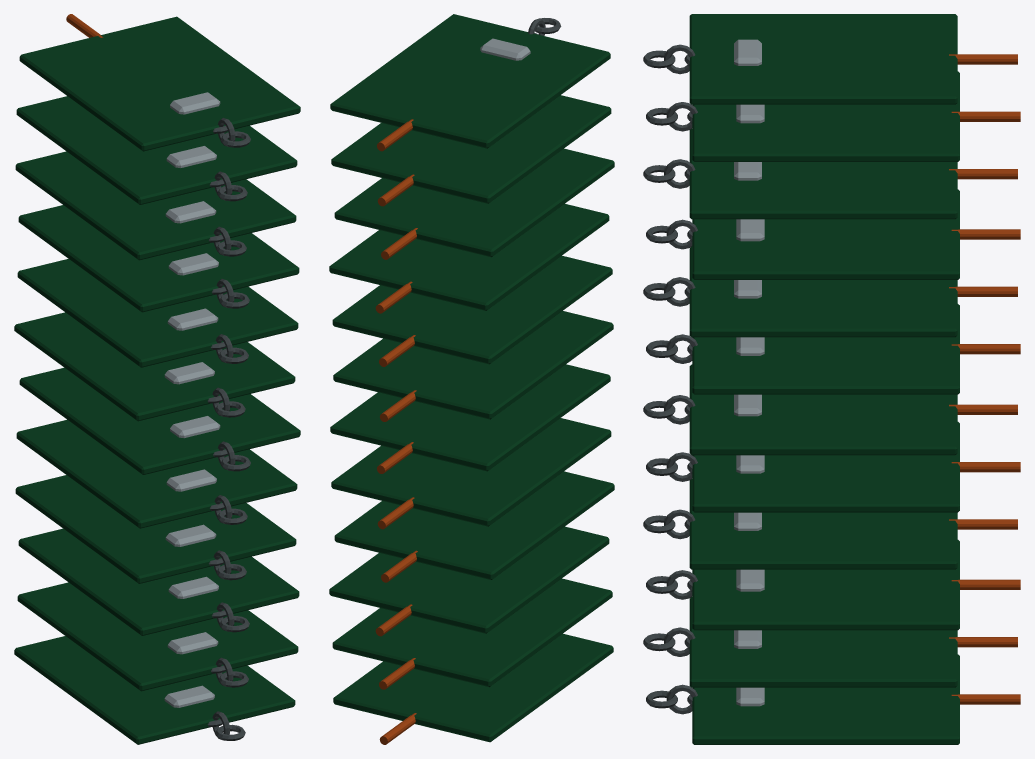
Rendered from hanging_plate.obj.
The picture shows the model from 3 angles, left to right: view 1: azimuth 30°, elevation 25°; view 2: azimuth 150°, elevation 25°; view 3: azimuth 270°, elevation 25°; orthographic projection. The views are drawn at different scales.
Bounding box in the file's own units: 0.472 × 1.72 × 0.873.
